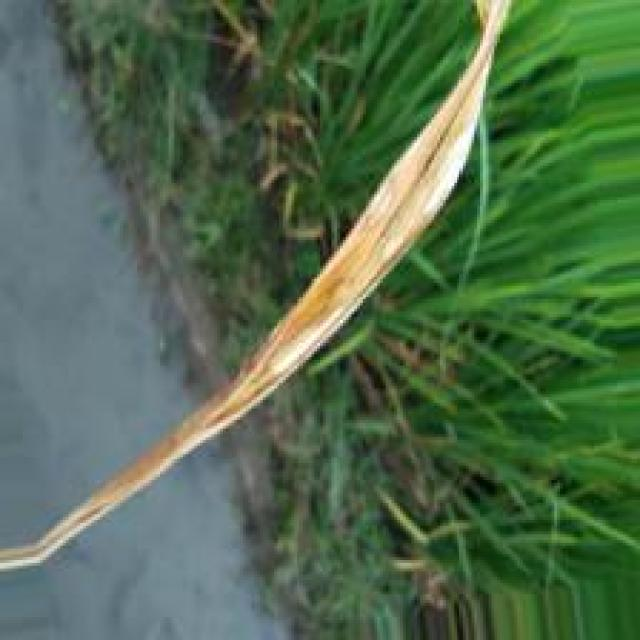Rice False Smut: (125, 3, 508, 486)
